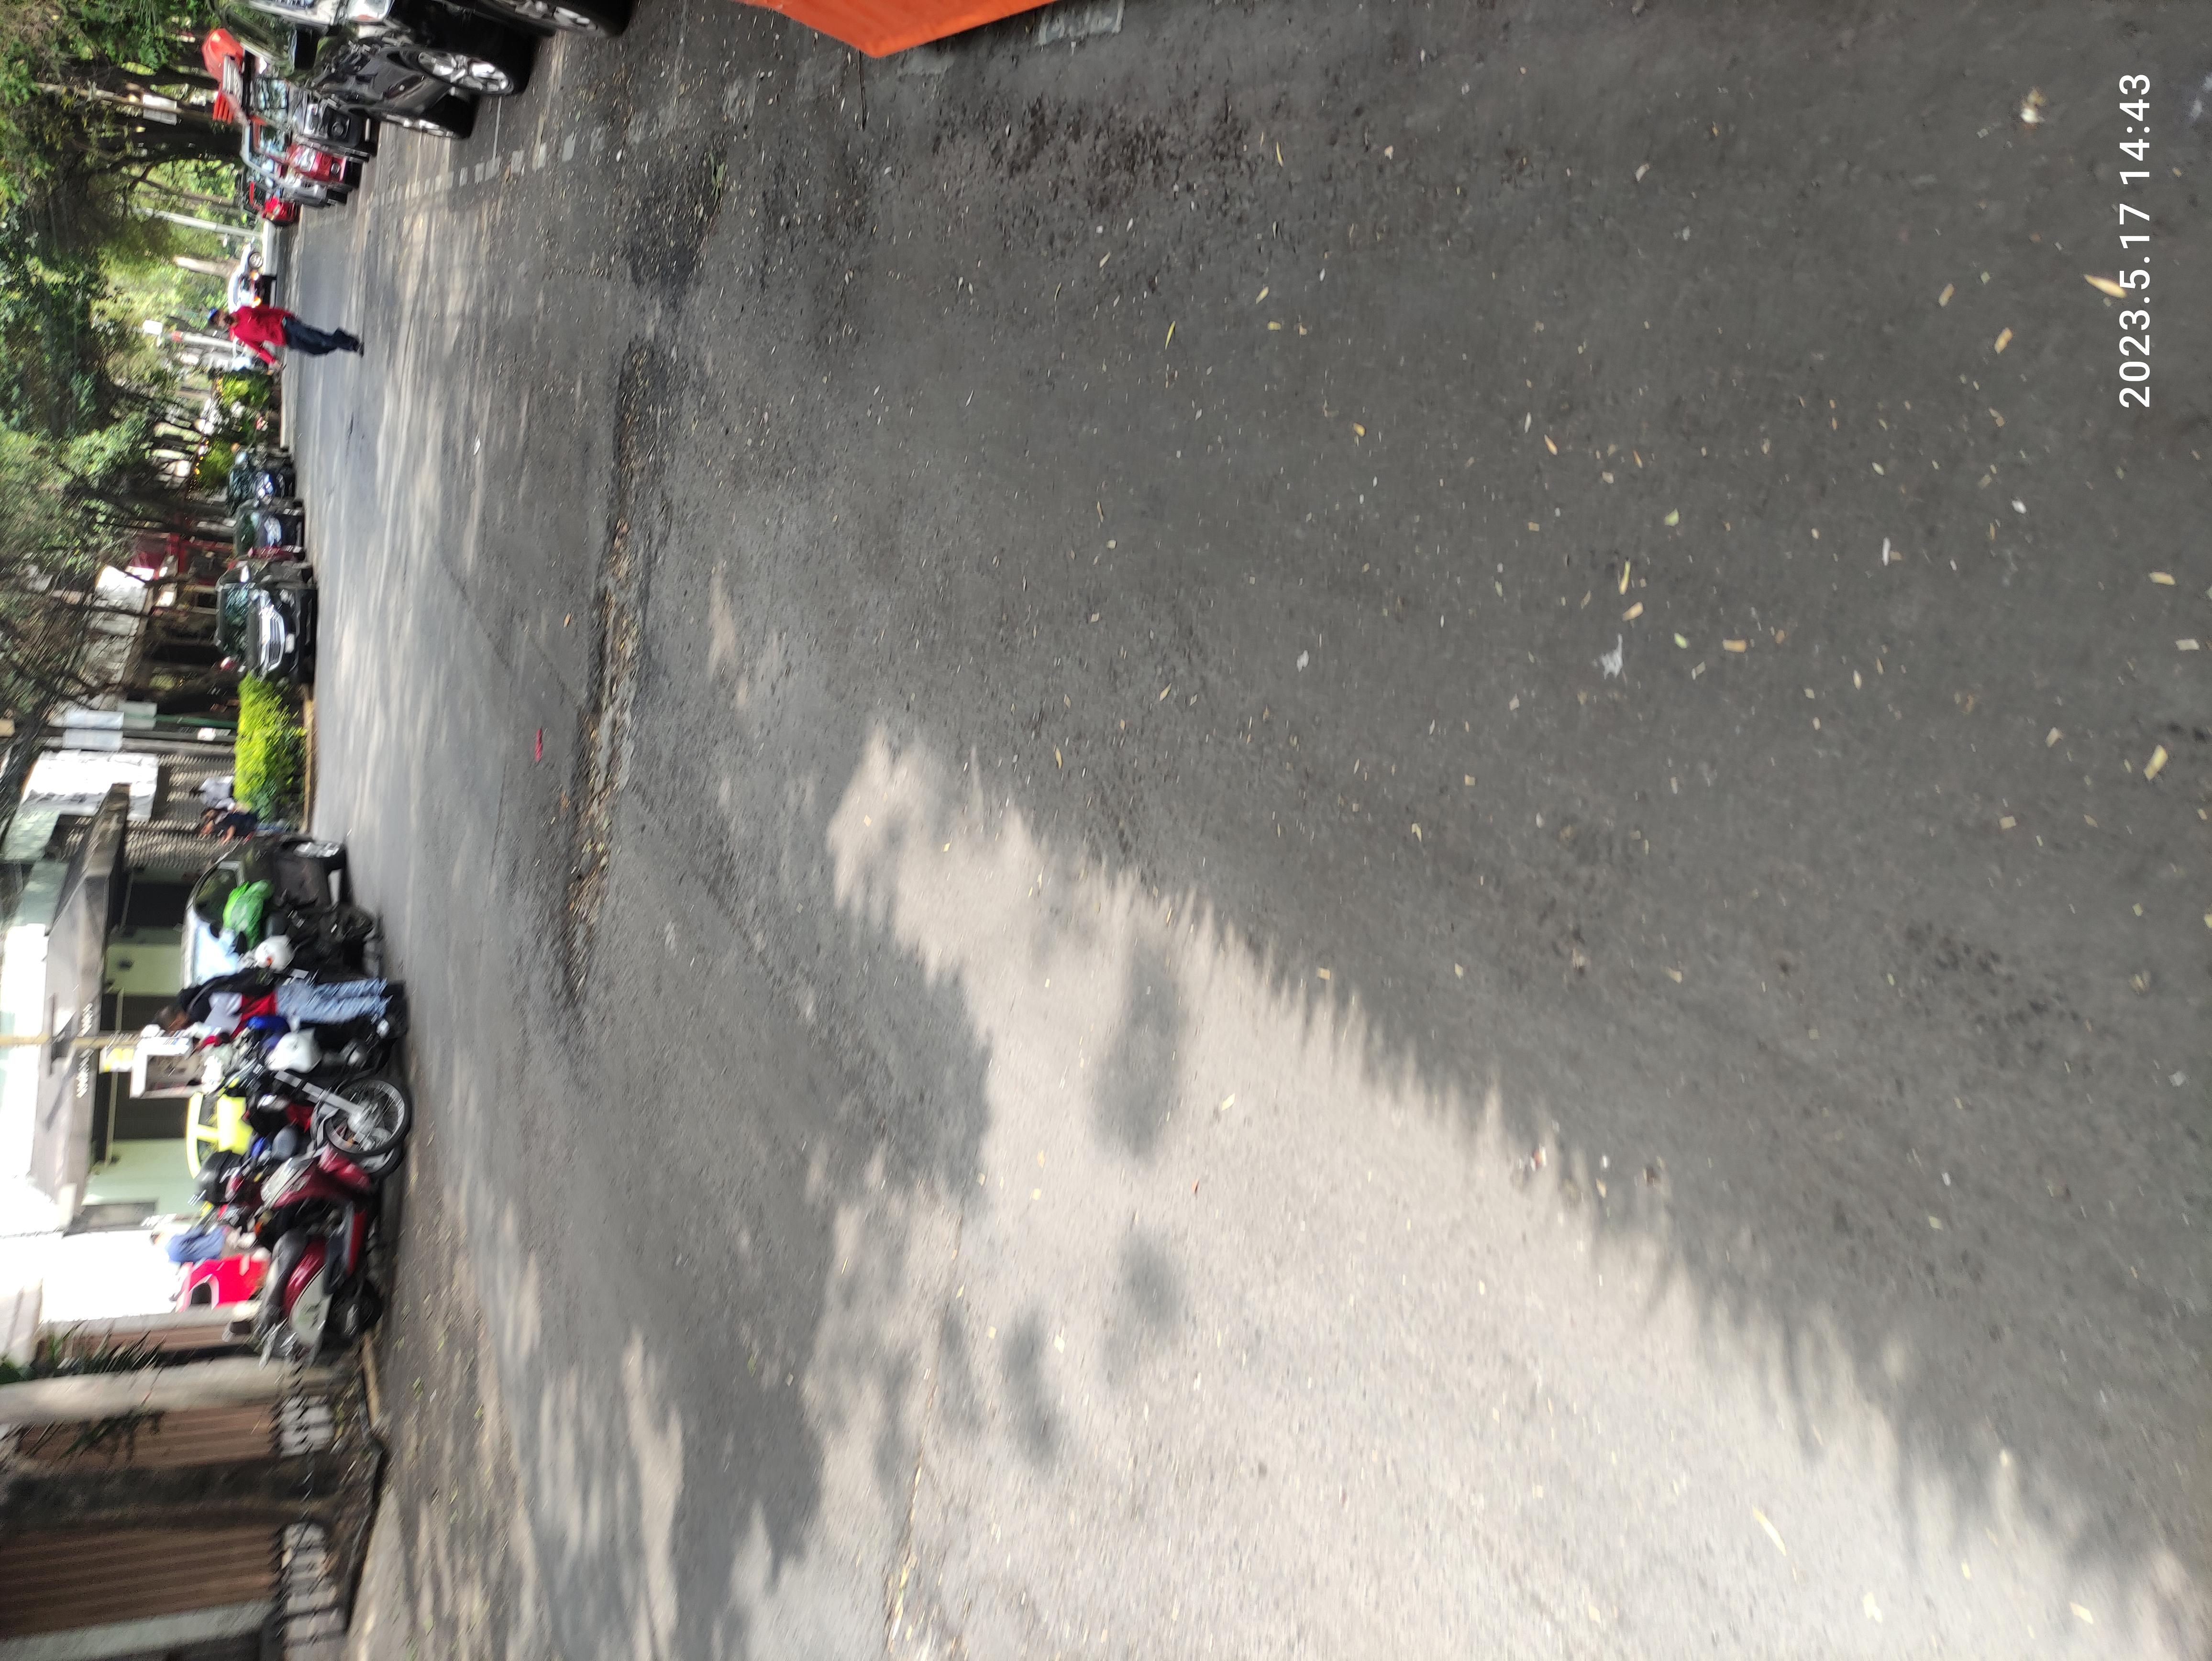pothole: (813, 394, 1781, 518)
